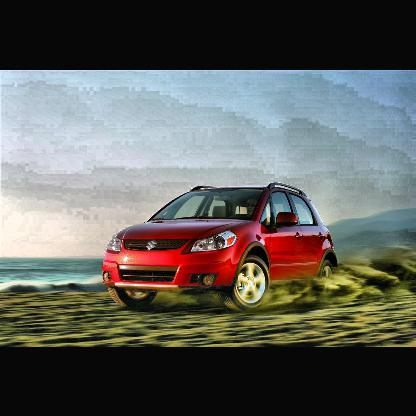Suzuki SX4 Hatchback 2012: (99, 182, 341, 315)
